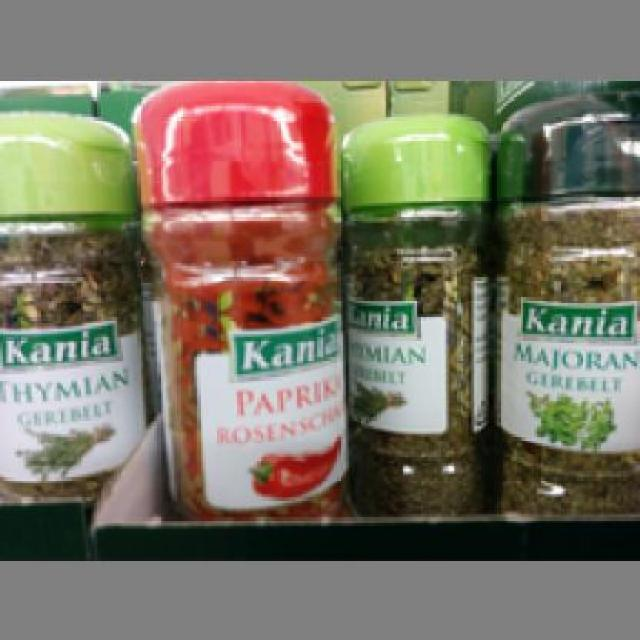Spices: (126, 77, 346, 520), (488, 92, 632, 514), (337, 111, 486, 518), (0, 106, 126, 508)
